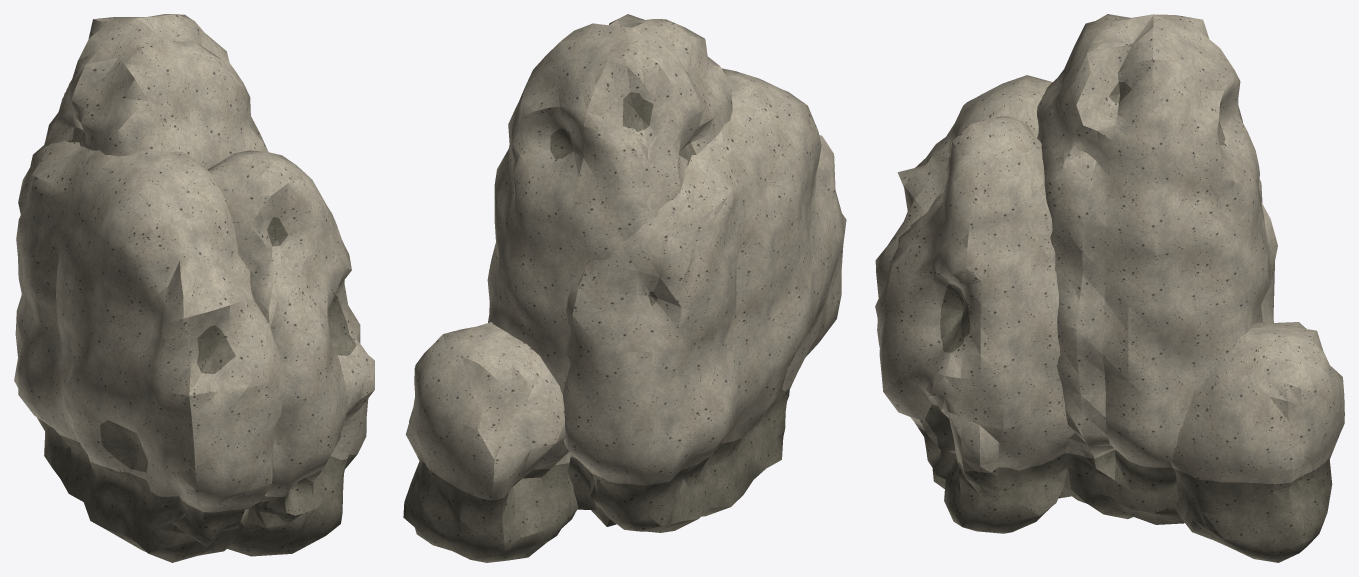
3 views of the same model, side by side, from view 1: azimuth 30°, elevation 25°; view 2: azimuth 150°, elevation 25°; view 3: azimuth 270°, elevation 25° (orthographic). The views are drawn at different scales.
Visible parts, largest first — view 1: rock, rock_wet; view 2: rock, rock_wet; view 3: rock, rock_wet.
Boxes of the visible parts, box(x1,y1,x2,y2) form: rock: box(14, 14, 374, 512); rock_wet: box(37, 127, 356, 562); rock: box(405, 14, 846, 500); rock_wet: box(403, 92, 795, 562); rock: box(875, 14, 1344, 484); rock_wet: box(918, 82, 1332, 562).
Size of the model in its own units: 6.32 by 11.01 by 9.52.
Materials: 2 (2 with a texture image).
